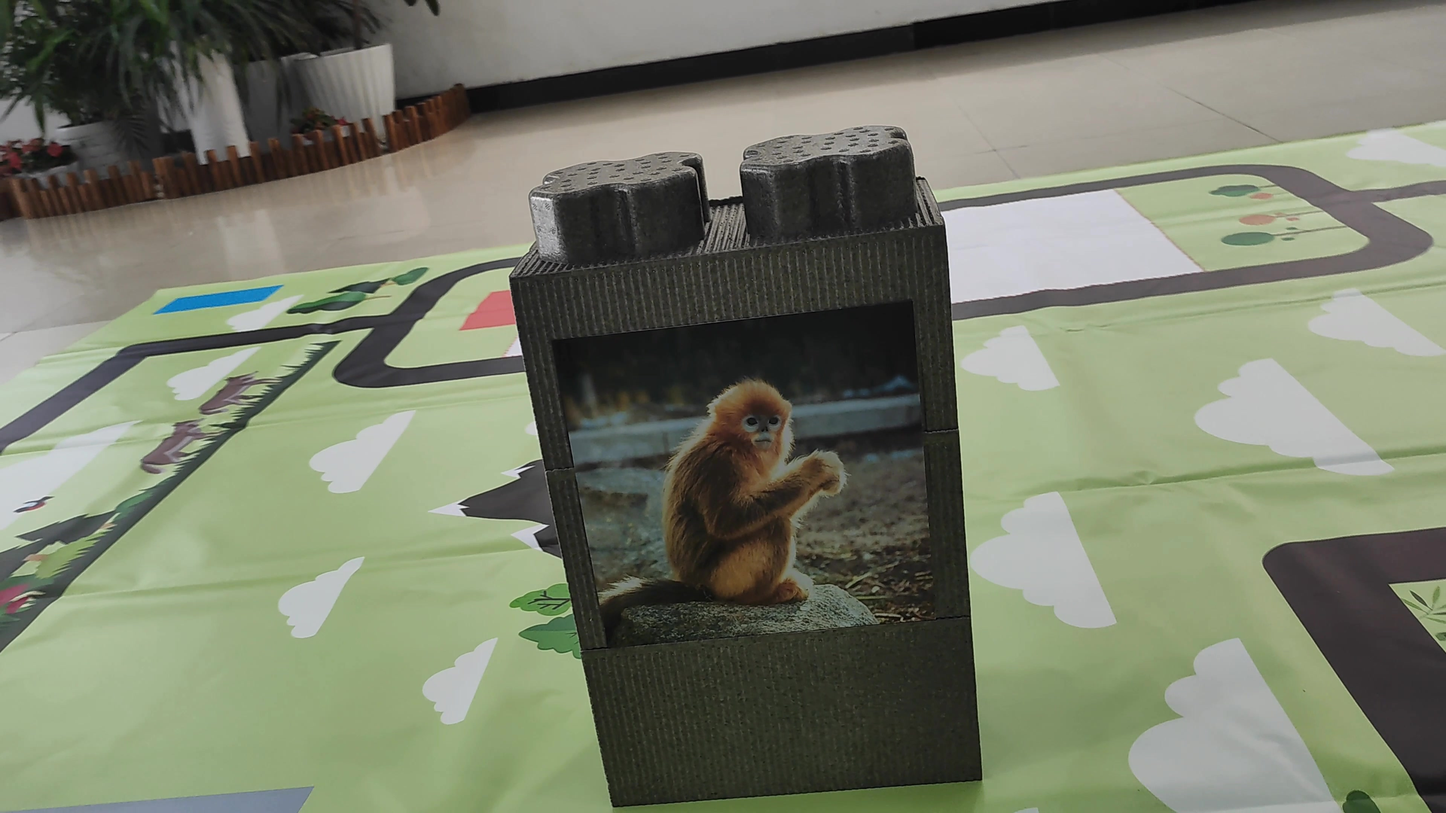monkey: (601, 349, 875, 644)
